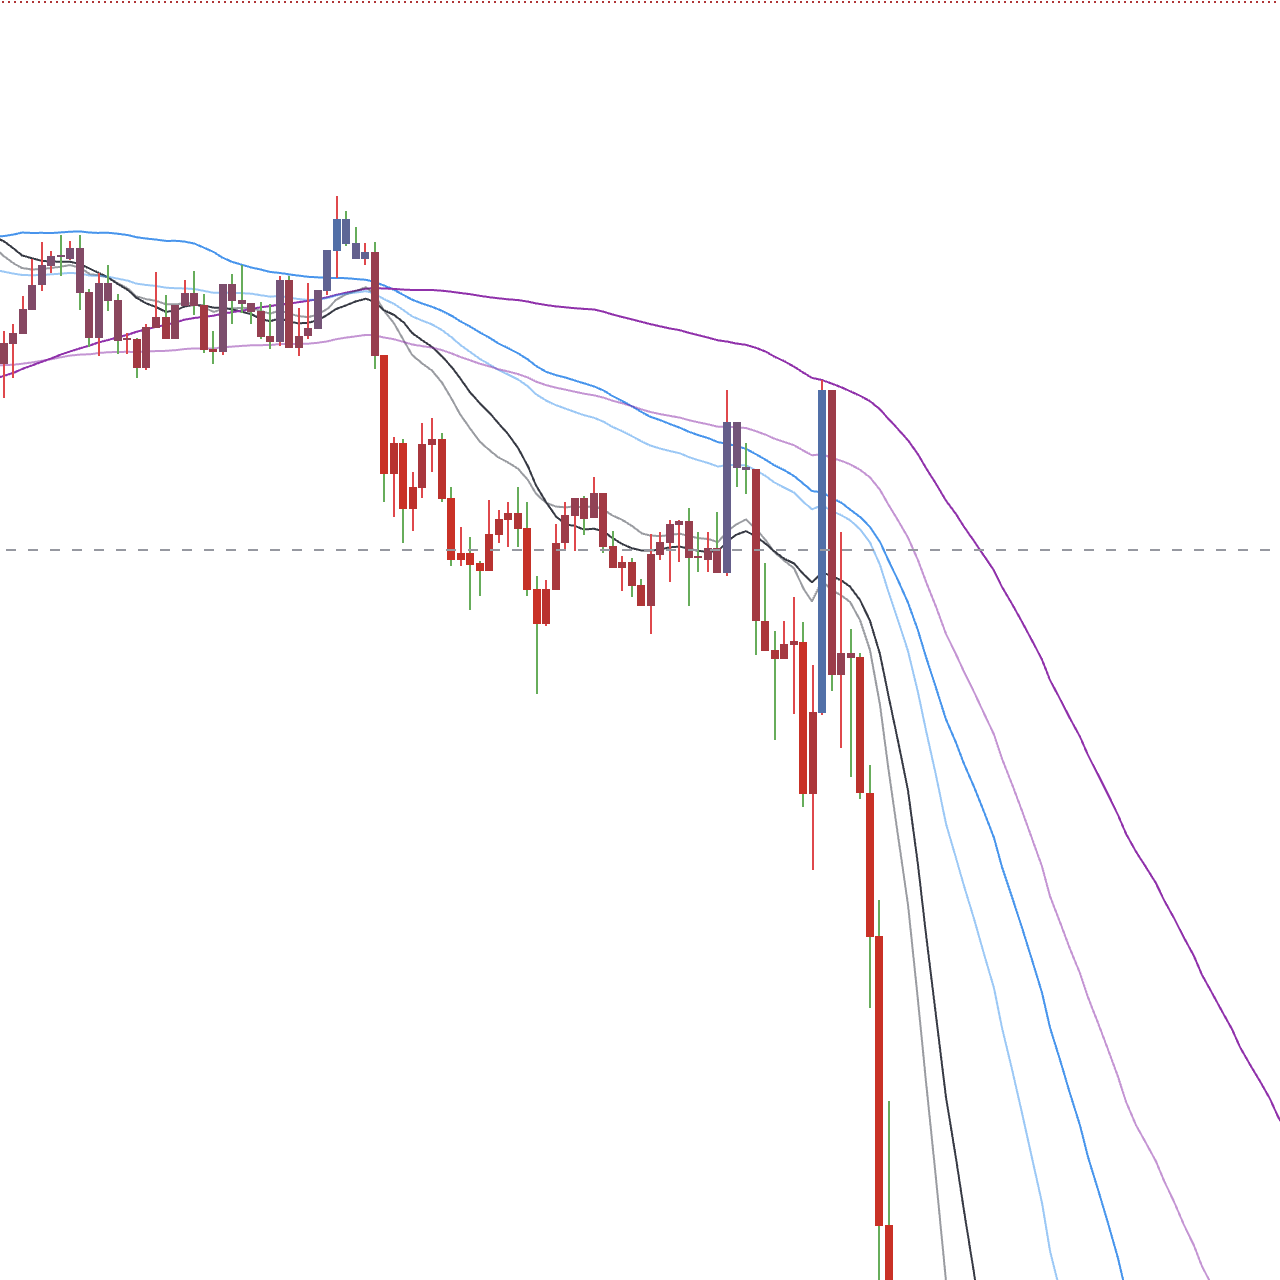ma_cluster: (335, 256, 495, 418)
